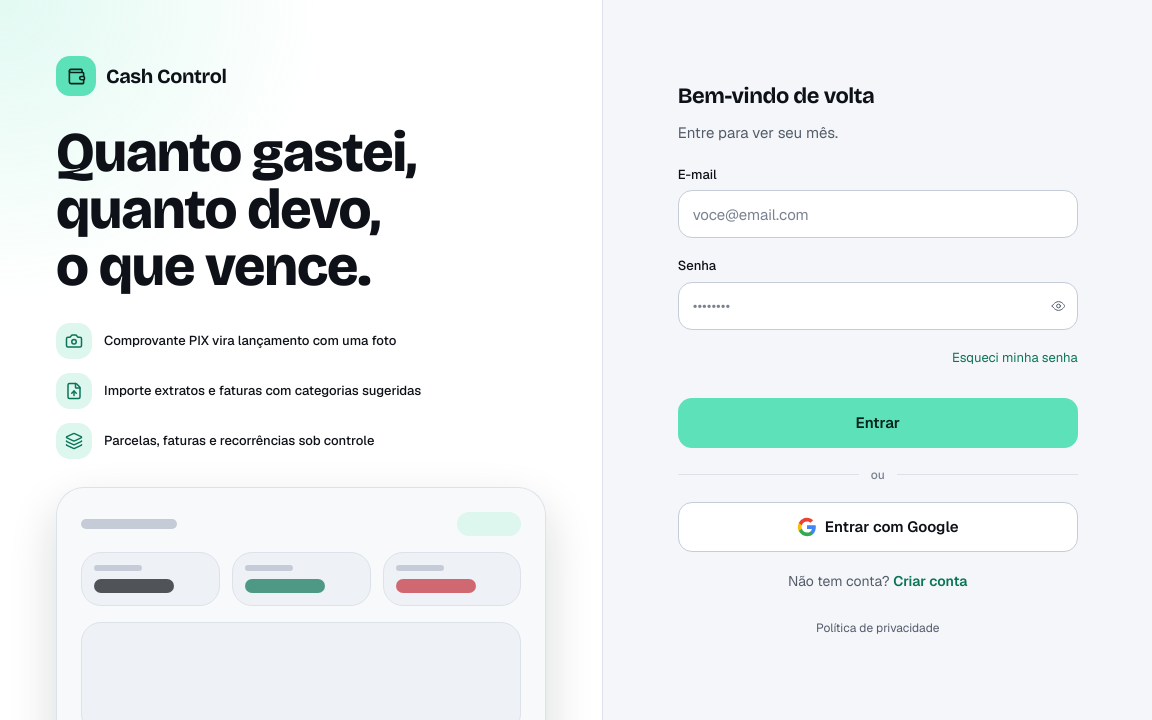
it: LoginPage › shows inline validation errors on empty form submission
The image size is (1152, 720).
Click the button "Entrar" at (878, 423), box [678, 398, 1078, 448]
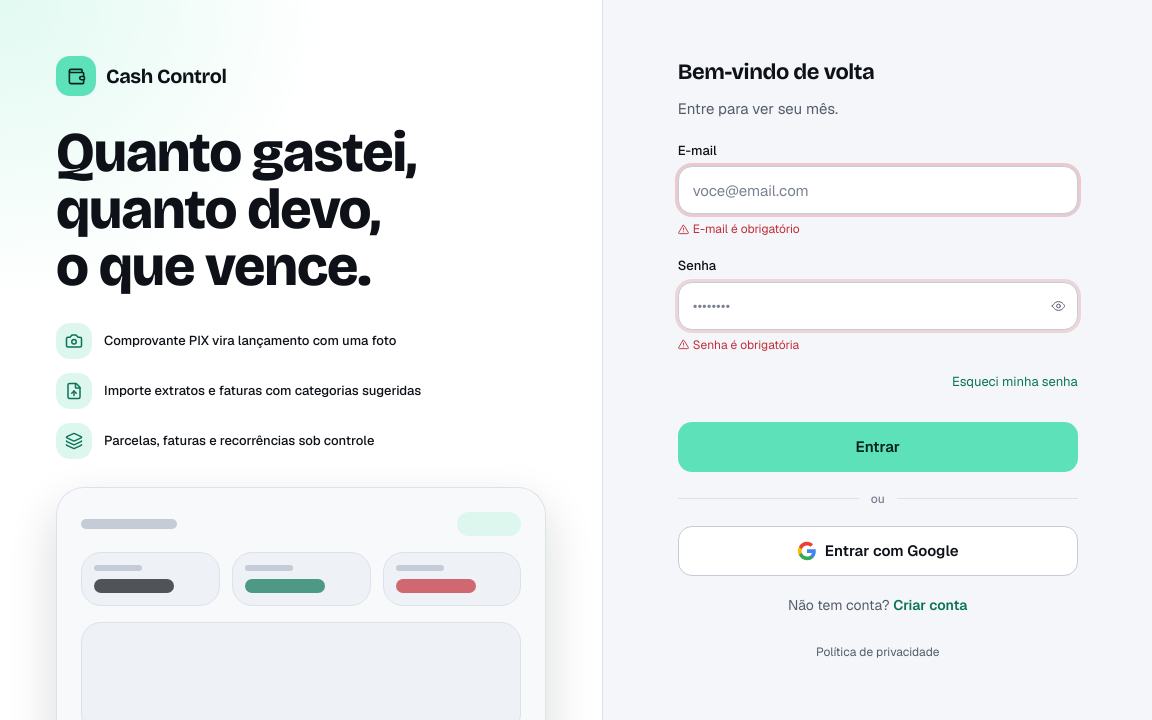
Expected: the text "E-mail é obrigatório" is shown, [678, 222, 800, 238]
Expected: the text "Senha é obrigatória" is shown, [678, 337, 799, 353]
